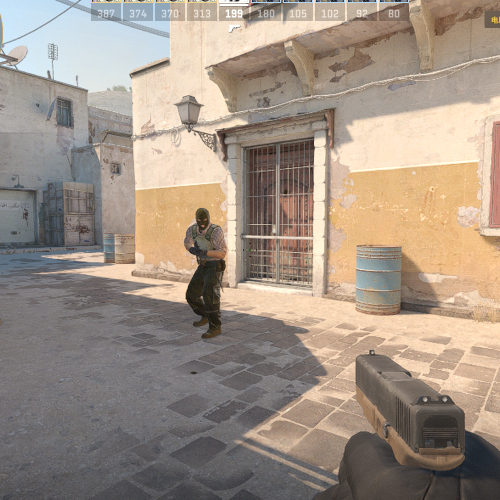t_body: (184, 207, 227, 340)
t_head: (194, 207, 210, 230)
